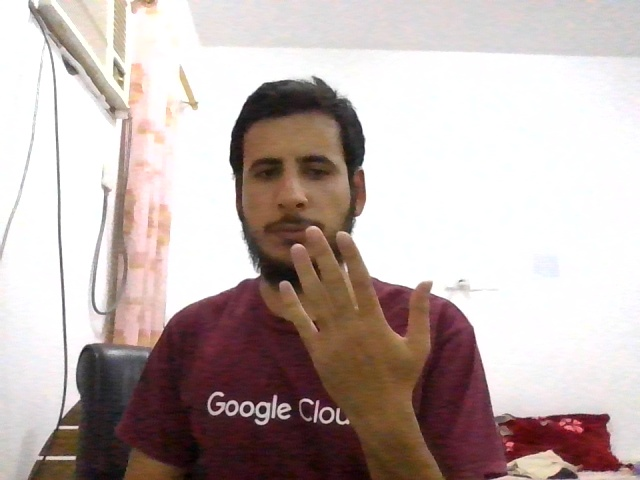Five: (278, 226, 433, 398)
